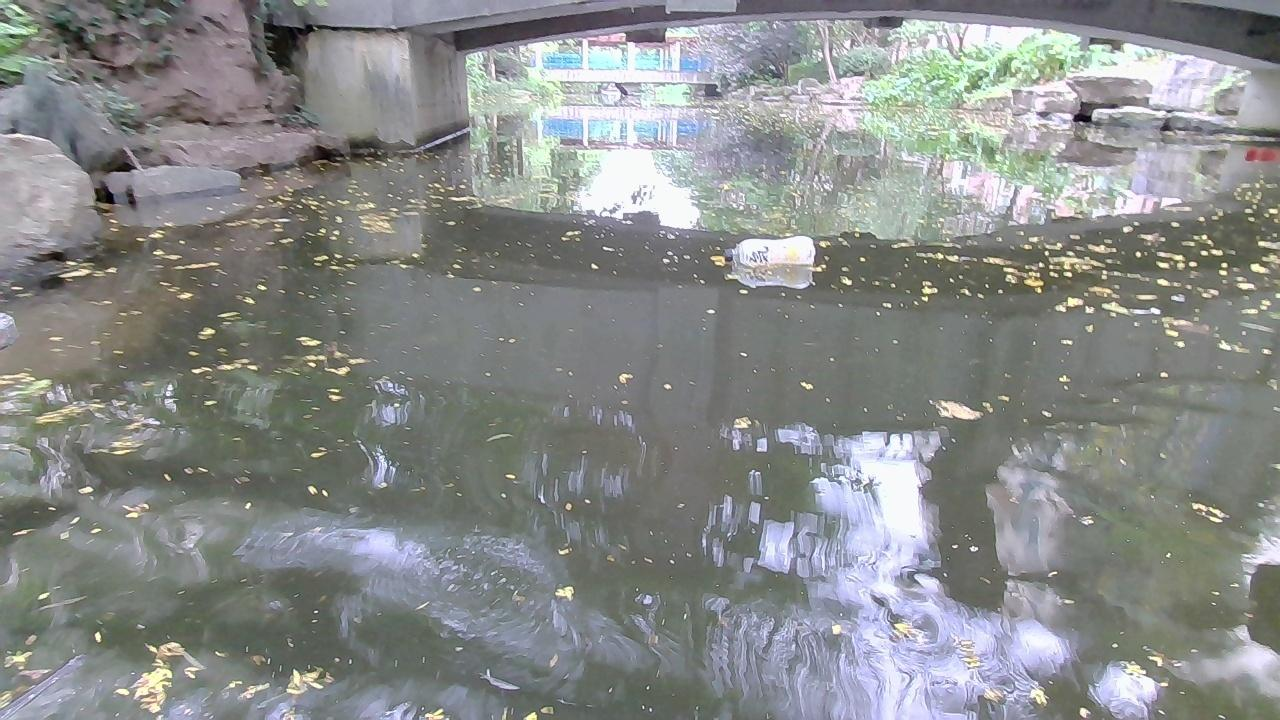bottle: (715, 238, 817, 268)
